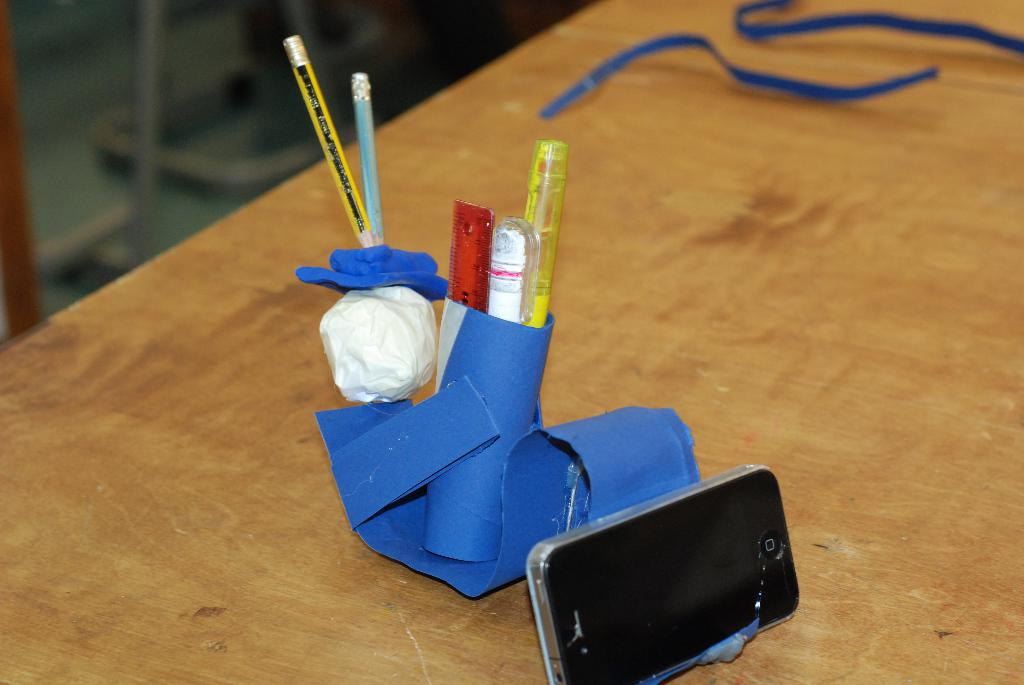Mobile-phone: (528, 463, 803, 685)
